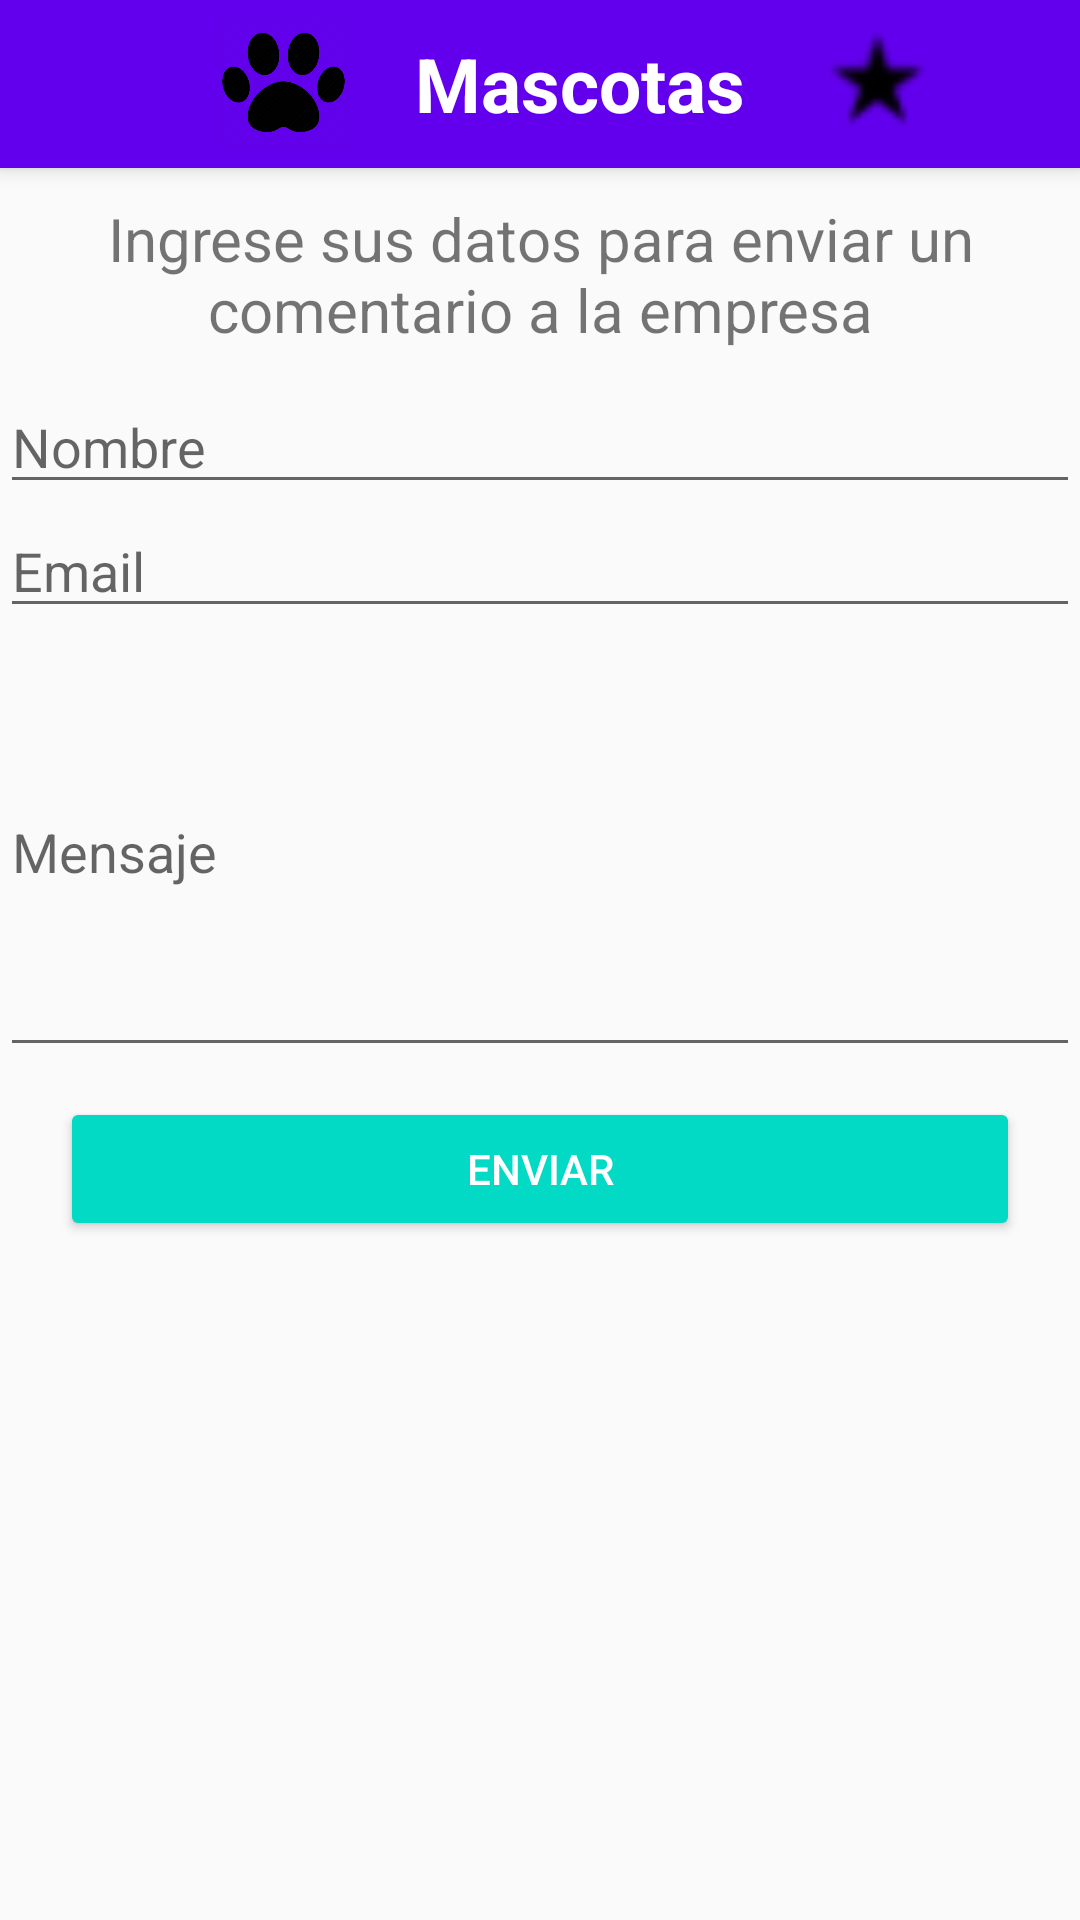

Screen size 1080*1920. Icon name, then its center in pixels as (x,y):
paw print: (283,82)
star rate: (877,80)
